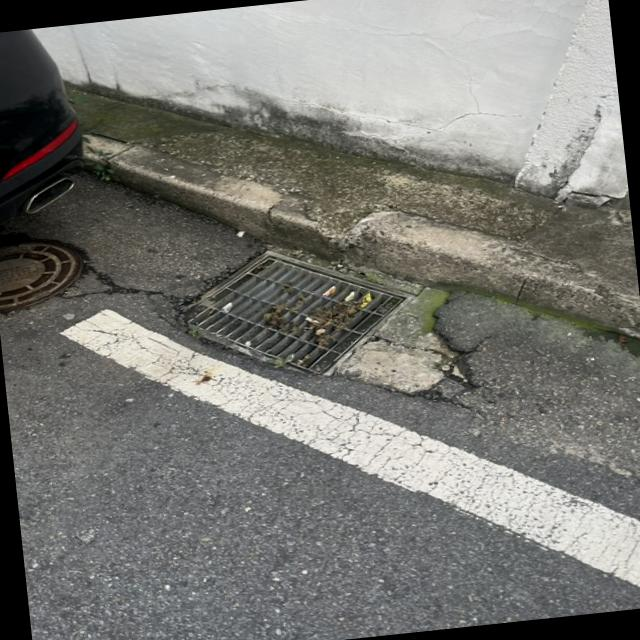drain_area: (191, 262, 393, 367)
drain_full: (177, 256, 406, 374)
